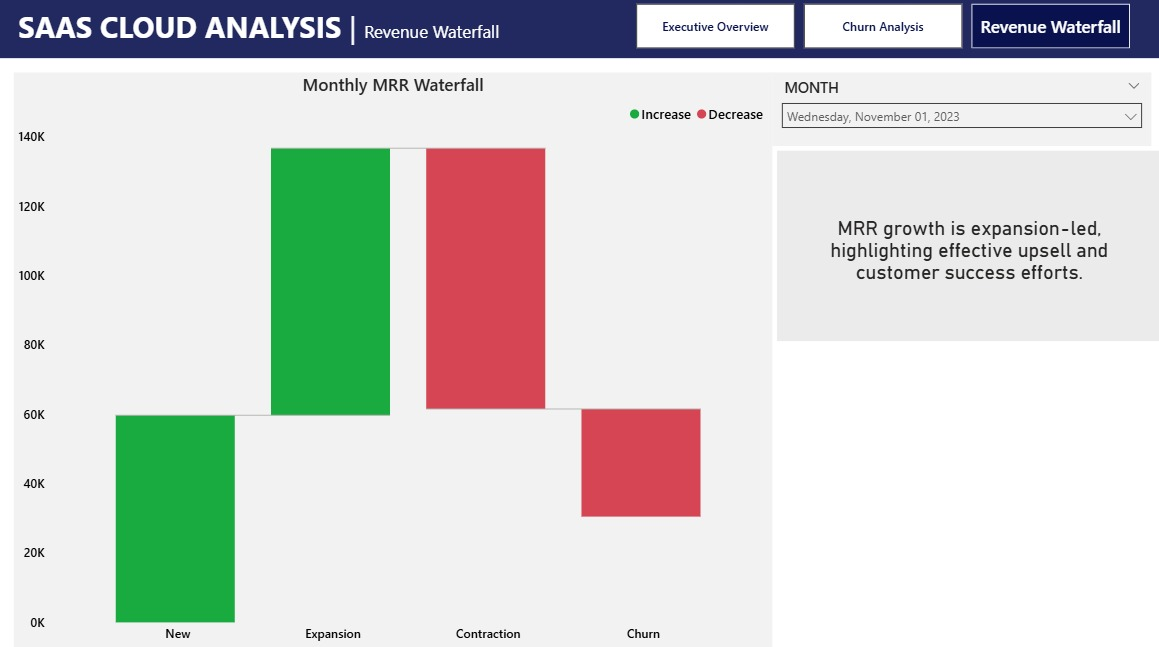

The page's visual inventory and layout, read from the dashboard file:
{"tool":"powerbi","page":{"name":"Revenue Waterfall","canvas":[1280,720],"ordinal":2},"visuals":[{"type":"shape","box":[0,0,1280,69.3],"z":0},{"type":"textbox","box":[14.9,8.7,874.5,61],"z":1000},{"type":"pageNavigator","box":[698.5,9.6,543.4,49.4],"z":6000},{"type":"waterfallChart","title":"Monthly MRR Waterfall","fields":{"Category":["VW_MRR_WATERFALL.MOVEMENT_TYPE"],"Y":["Sum(VW_MRR_WATERFALL.MRR_AMOUNT)"]},"box":[15.1,85.1,832.9,635.3],"z":6001},{"type":"slicer","fields":{"Values":["VW_MRR_WATERFALL.MONTH"]},"box":[848,85.1,415.8,81],"z":6002},{"type":"cardVisual","fields":{"Data":["VW_MRR_WATERFALL.Revenue Insight"]},"box":[848,166,432.2,219.6],"z":6003}]}

Visuals, with their boxes in screenshot pixels (x1, y1, x2, y2), scaled from the page's 1280x720 canvas onto the 1159x647 screenshot:
shape: x1=0 y1=0 x2=1158 y2=62
textbox: x1=13 y1=8 x2=805 y2=63
pageNavigator: x1=632 y1=9 x2=1125 y2=53
"Monthly MRR Waterfall" waterfallChart: x1=14 y1=76 x2=768 y2=646
slicer - VW_MRR_WATERFALL.MONTH: x1=768 y1=76 x2=1144 y2=149
cardVisual - VW_MRR_WATERFALL.Revenue Insight: x1=768 y1=149 x2=1158 y2=347
